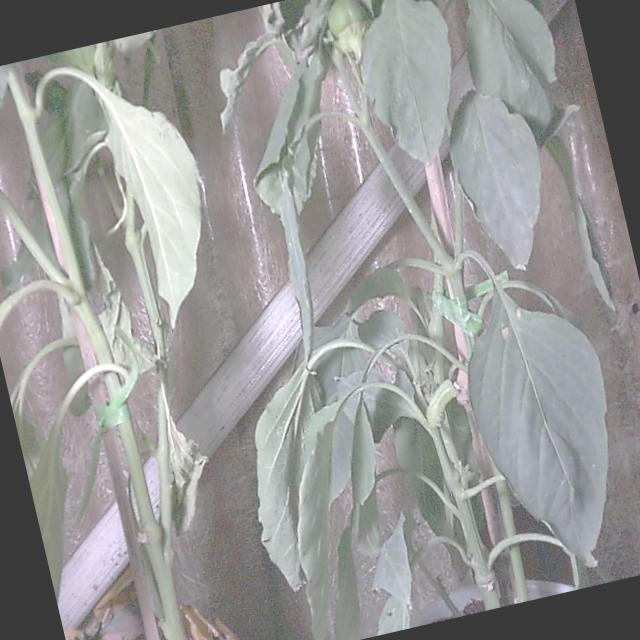Leaf: (468, 292, 607, 565), (97, 87, 200, 325), (450, 92, 540, 269), (361, 0, 450, 164), (467, 0, 554, 136)
